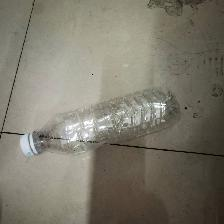bottle: (19, 43, 194, 202)
